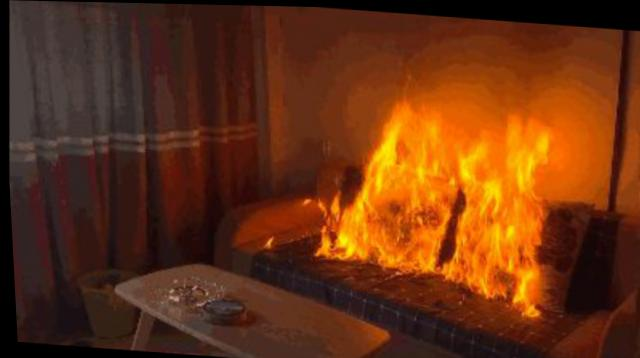fire: (448, 114, 553, 295), (359, 97, 458, 266), (315, 187, 369, 258), (512, 293, 540, 314)
